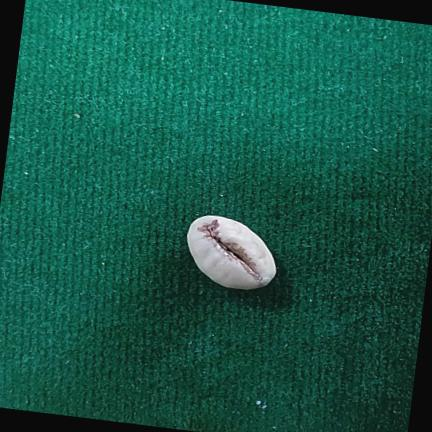immature: (187, 215, 276, 289)
